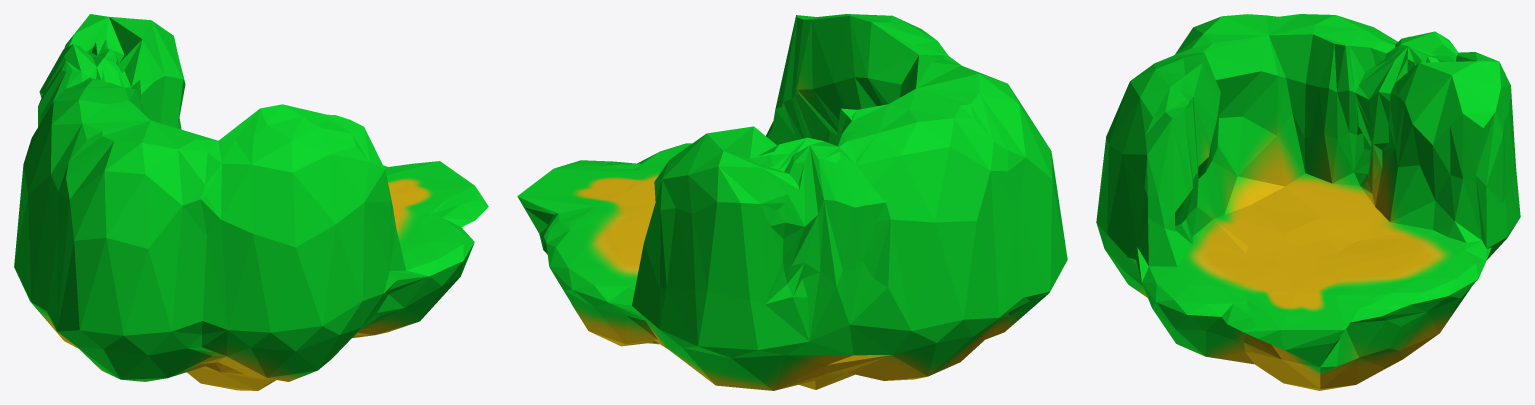
File: Land1.obj
3 renders of one model, left to right at view 1: azimuth 30°, elevation 25°; view 2: azimuth 150°, elevation 25°; view 3: azimuth 270°, elevation 25°, orthographic. The views are drawn at different scales.
Parts seen in each view (by area): view 1: Ico_球體.004; view 2: Ico_球體.004; view 3: Ico_球體.004.
Part boxes in pixels (<box>): Ico_球體.004: <box>14,14,488,390</box>; Ico_球體.004: <box>517,14,1067,390</box>; Ico_球體.004: <box>1096,14,1520,390</box>.
Size of the model in its own units: 306 by 207 by 269.
1 material, 1 textured.
